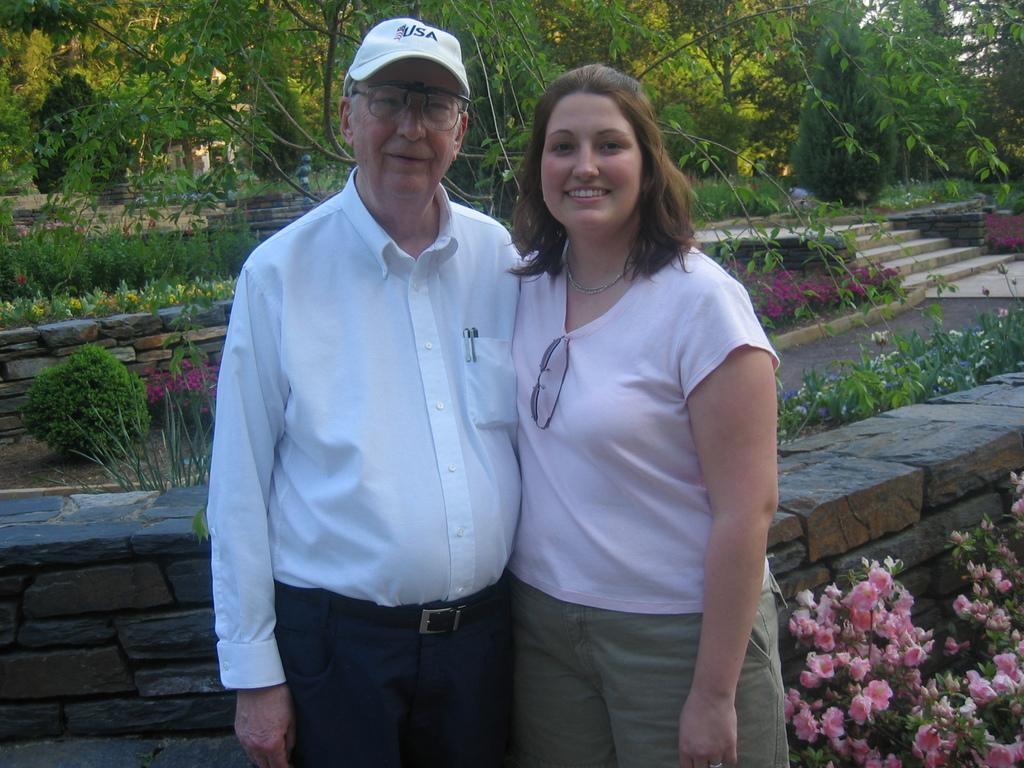Hat: (342, 18, 470, 92)
